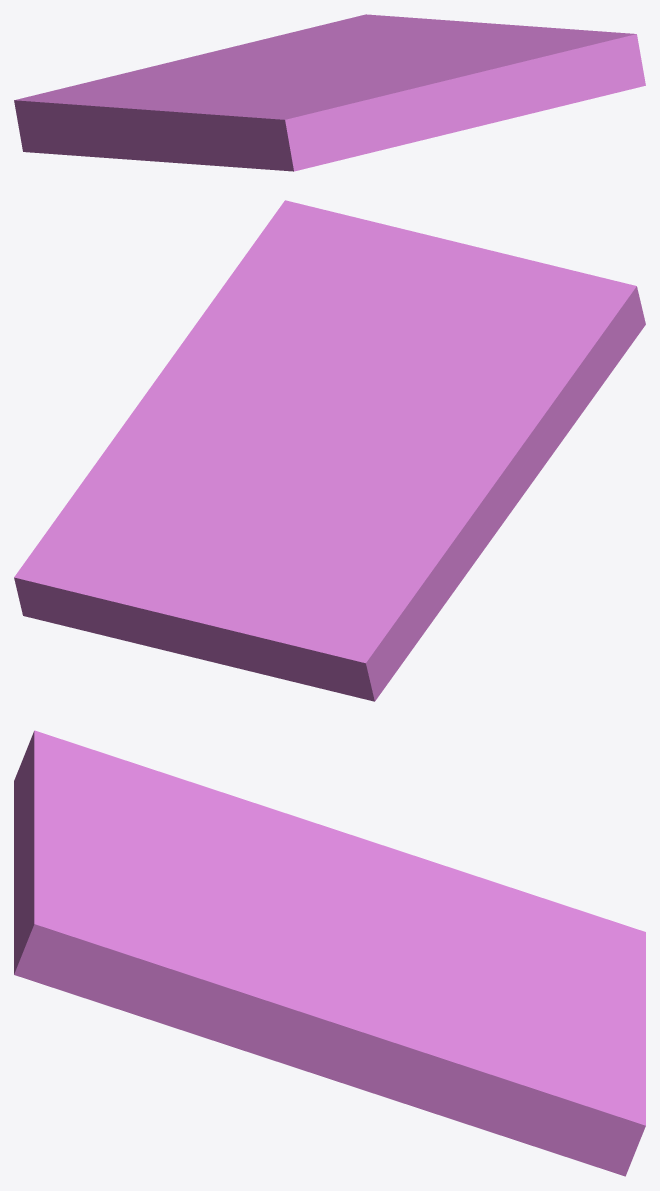
Rendered from slope_down.fbx.
3 renders of one model, top to bottom at view 1: azimuth 30°, elevation 25°; view 2: azimuth 150°, elevation 25°; view 3: azimuth 270°, elevation 25°, orthographic. The views are drawn at different scales.
Visible parts, largest first — view 1: pCube9; view 2: pCube9; view 3: pCube9.
Boxes of the visible parts, <box> form: pCube9: <box>14,14,645,171</box>; pCube9: <box>14,200,645,701</box>; pCube9: <box>14,730,645,1176</box>.
Bounding box in the file's own units: 5.02 × 3.05 × 6.92.
